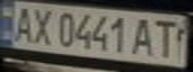0: (54, 8, 75, 48)
1: (106, 14, 130, 54)
4: (90, 11, 112, 52), (72, 10, 93, 51)
A: (130, 16, 160, 57), (9, 3, 36, 43)
T: (148, 17, 184, 59)
X: (27, 6, 57, 46)
